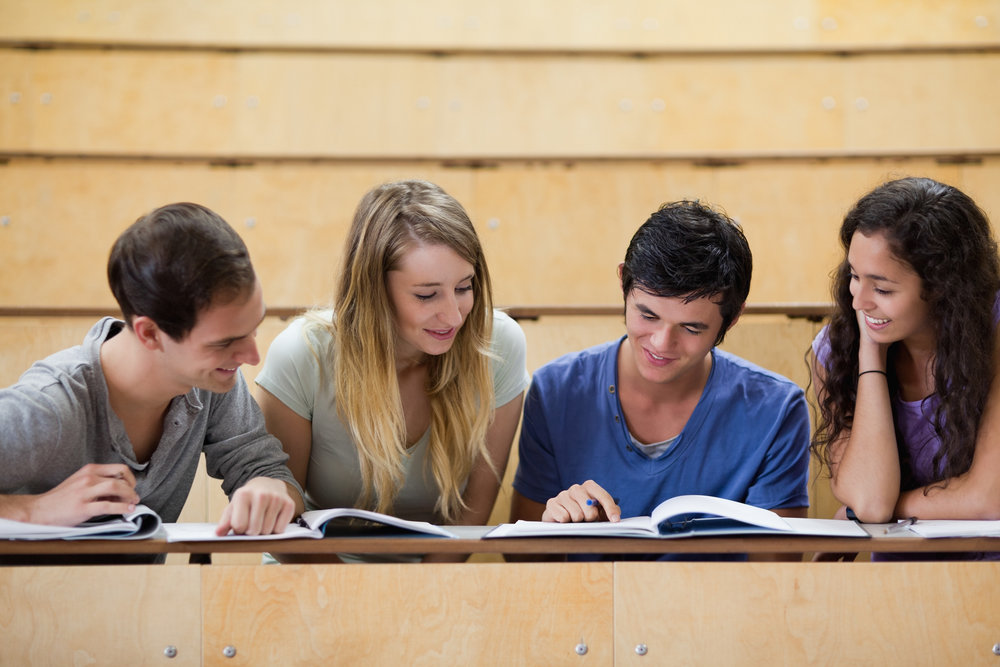students: (1, 198, 309, 538), (508, 201, 812, 525), (257, 178, 528, 525), (816, 176, 999, 523)
